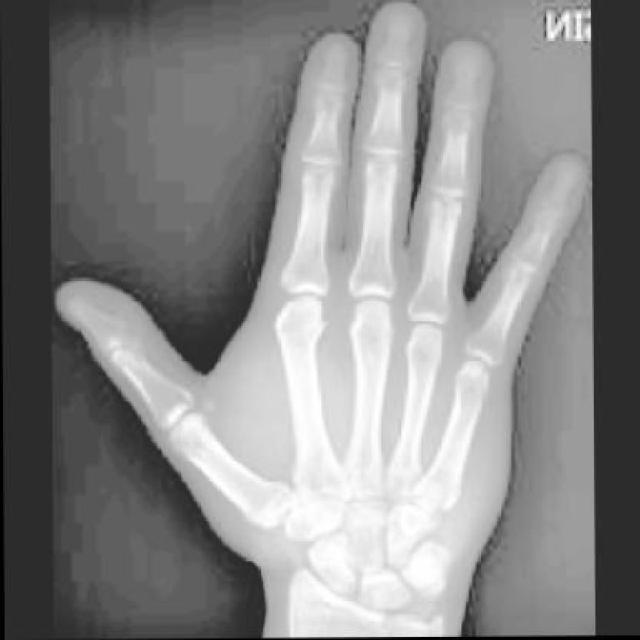Fracture: (299, 310, 330, 347)
